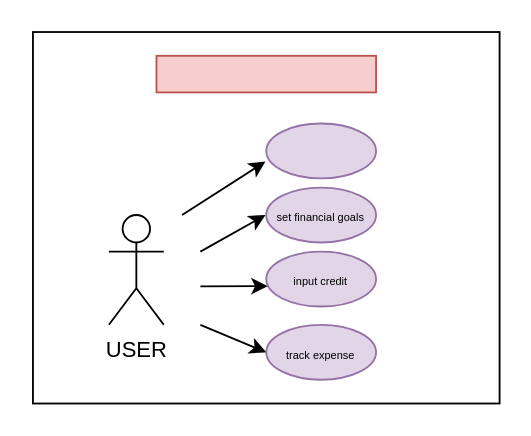
Some shapes in this 531 by 436 pixel diagram are drawn without their labels. Here are the shapes that lost their labels. From the top down, the centre of each, then its label:
the point at 265,73: USE CASES
the point at 320,150: view expense
